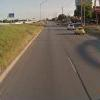Car: (63, 19, 90, 37)
